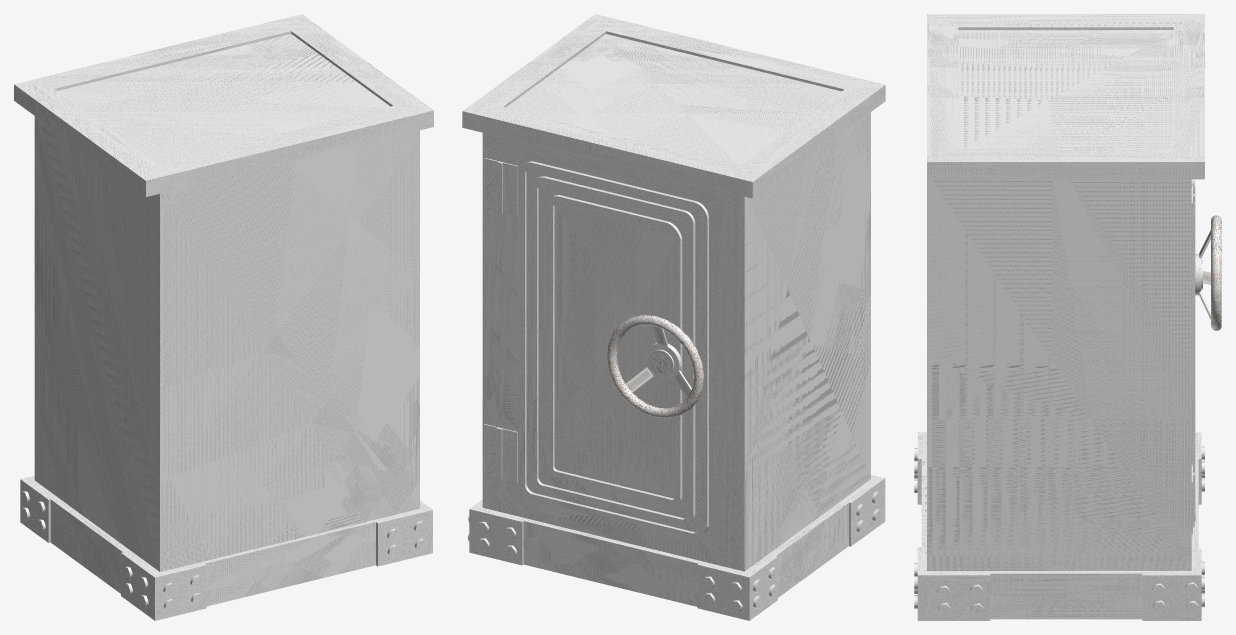
The picture shows the model from 3 angles, left to right: view 1: azimuth 30°, elevation 25°; view 2: azimuth 150°, elevation 25°; view 3: azimuth 270°, elevation 25°; orthographic projection. The views are drawn at different scales.
Visible parts, largest first — view 1: mesh7_mesh7-geometry; view 2: mesh7_mesh7-geometry, mesh4_mesh4-geometry, mesh5_mesh5-geometry; view 3: mesh7_mesh7-geometry, mesh4_mesh4-geometry.
Part boxes in pixels (left/top/right/bottom): mesh7_mesh7-geometry: left=14, top=14, right=433, bottom=620; mesh7_mesh7-geometry: left=462, top=14, right=885, bottom=620; mesh4_mesh4-geometry: left=607, top=315, right=703, bottom=418; mesh5_mesh5-geometry: left=645, top=342, right=682, bottom=380; mesh7_mesh7-geometry: left=914, top=14, right=1204, bottom=620; mesh4_mesh4-geometry: left=1211, top=215, right=1221, bottom=330.
Size of the model in its own units: 0.5077 by 0.7376 by 0.4452.
